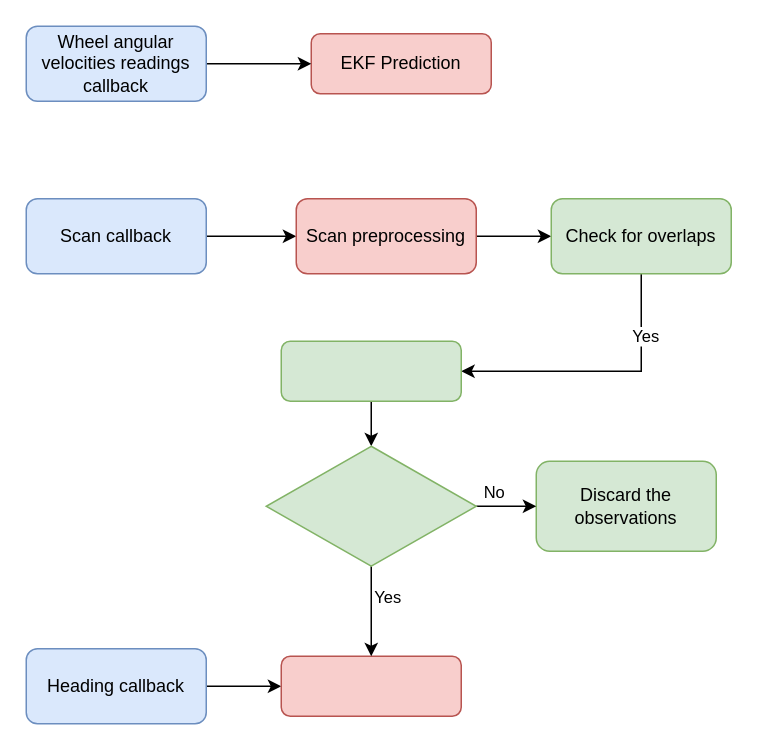
The diagram is 758 pixels wide and 750 high, and some of its shapes have lost their labels. Each missing label, with the centre of its shape:
"Compatibility Test" belongs at pixel 370 505.
"EKF Update" belongs at pixel 370 685.
"Scan Registration" belongs at pixel 370 370.
